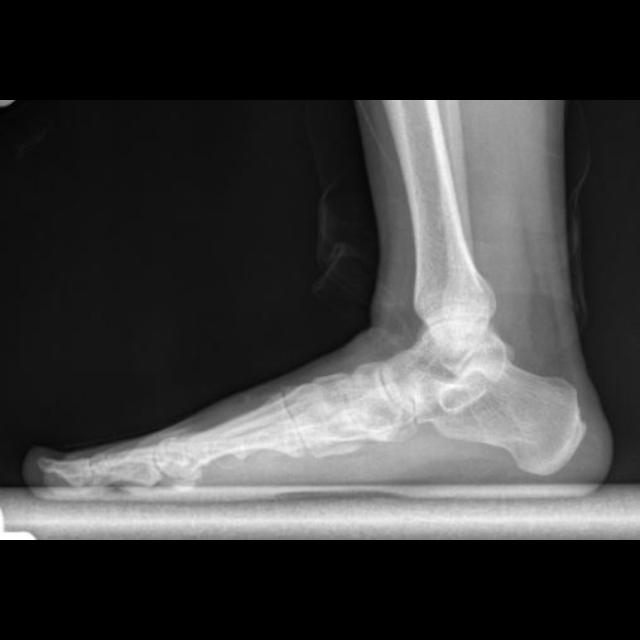a: (436, 366, 584, 474)
b: (350, 358, 414, 432)
c: (156, 396, 304, 490)
